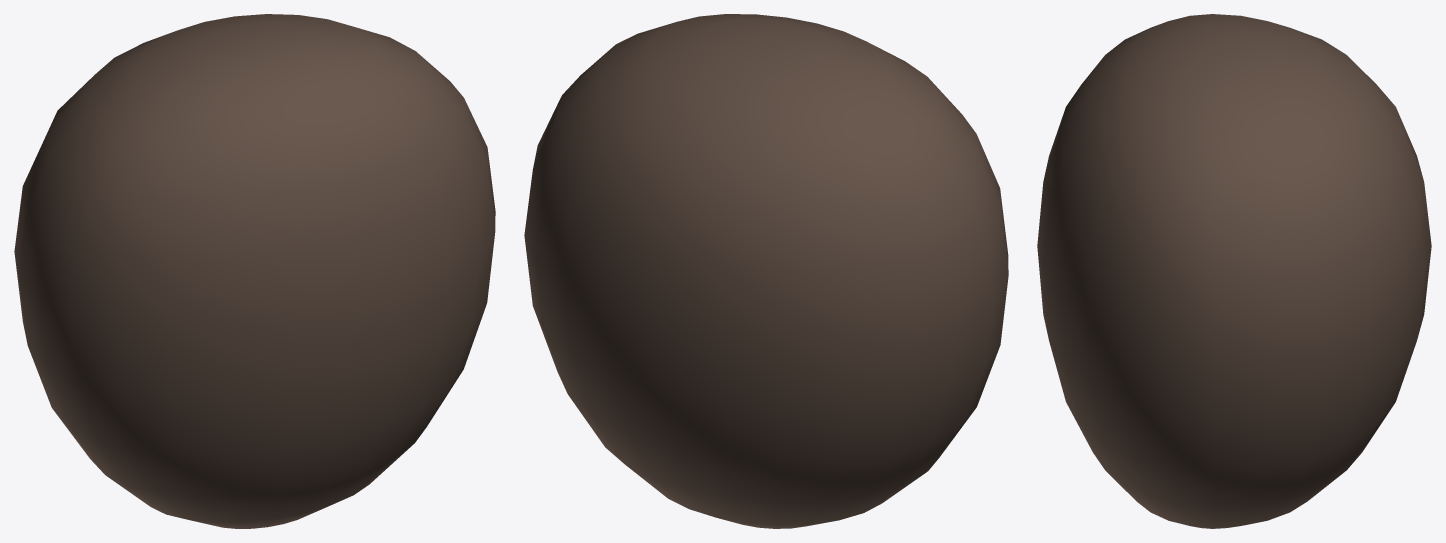
File: Moonflower_Seed.fbx
The picture shows the model from 3 angles, left to right: view 1: azimuth 30°, elevation 25°; view 2: azimuth 150°, elevation 25°; view 3: azimuth 270°, elevation 25°; orthographic projection. The views are drawn at different scales.
Parts seen in each view (by area): view 1: Moonflower_Seed; view 2: Moonflower_Seed; view 3: Moonflower_Seed.
Boxes of the visible parts, bbox=[...] form: Moonflower_Seed: bbox=[14, 14, 495, 528]; Moonflower_Seed: bbox=[524, 14, 1008, 528]; Moonflower_Seed: bbox=[1037, 14, 1431, 528].
Bounding box in the file's own units: 0.85 × 0.875 × 0.675.
